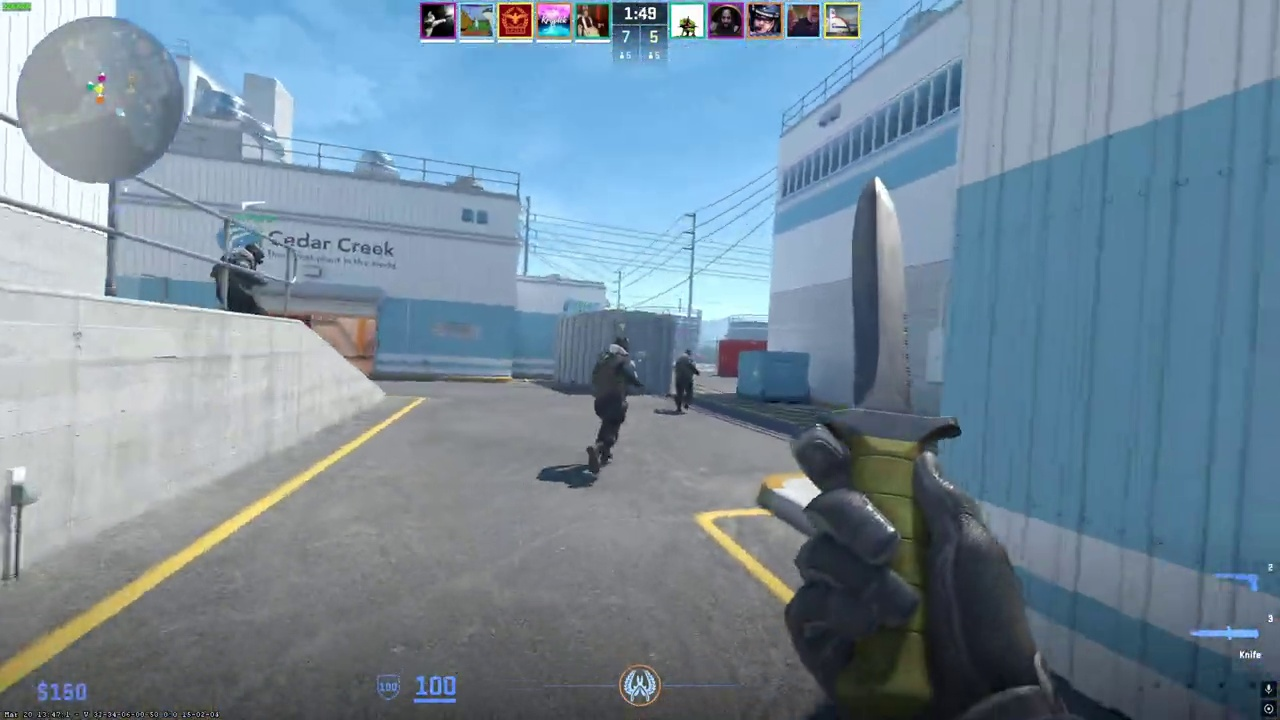CT: (586, 336, 639, 475), (214, 242, 266, 315), (675, 349, 699, 414)
